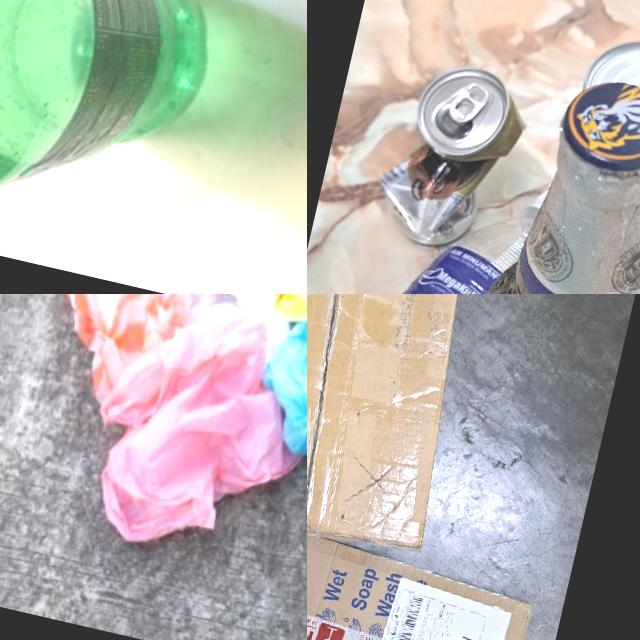aba de lata: (446, 78, 491, 127)
garrafa de vidro: (437, 62, 640, 294)
garrafa plástica: (0, 0, 241, 268), (307, 154, 538, 294)
lata: (376, 56, 532, 258)
papelão: (307, 294, 511, 563), (307, 465, 542, 640)
sacola plástica: (66, 297, 307, 579), (34, 294, 197, 369), (260, 294, 307, 487)
